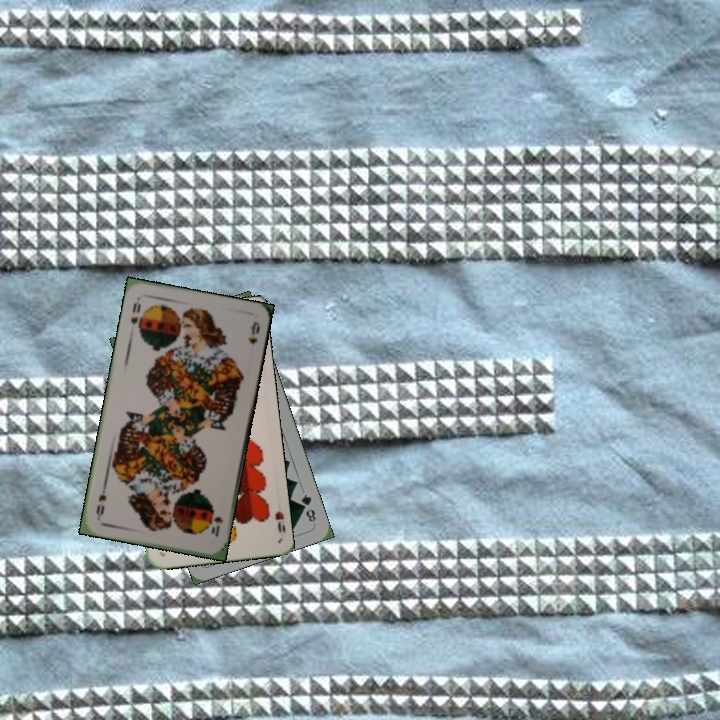G8: (297, 490, 318, 525)
H9: (271, 507, 288, 536)
SO: (207, 506, 225, 539), (127, 299, 143, 327)
